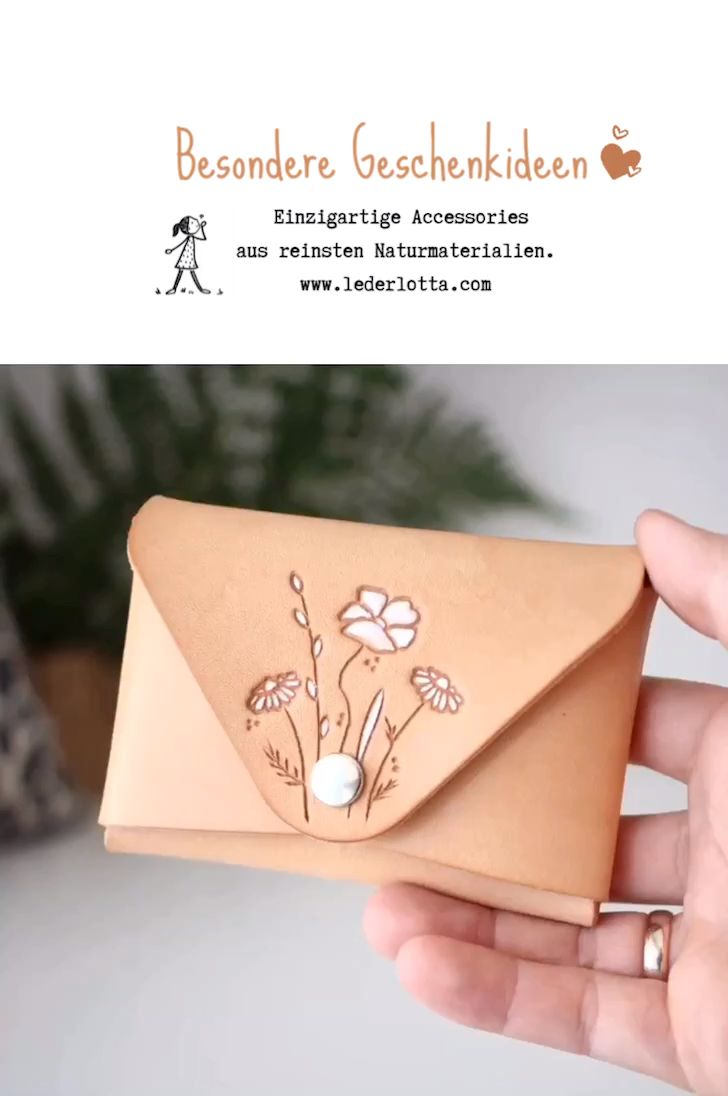cuero: (94, 493, 662, 930)
